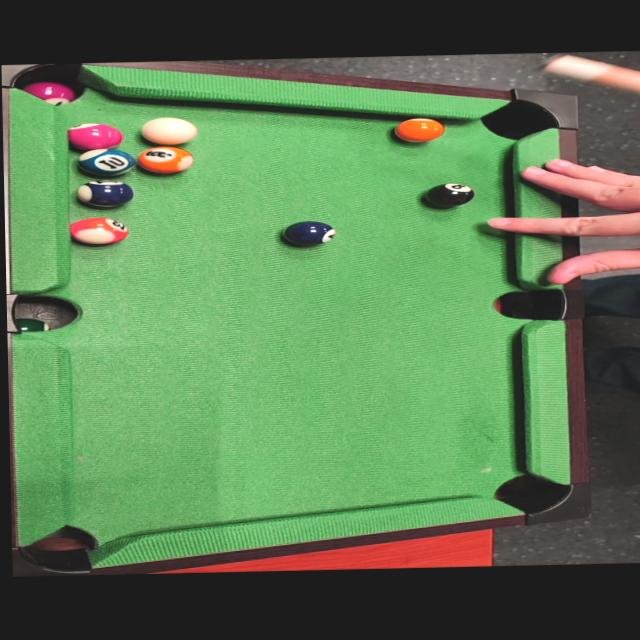cue ball: (142, 113, 201, 148)
other: (60, 119, 125, 155), (75, 143, 139, 179), (128, 144, 202, 175), (68, 216, 133, 250), (76, 178, 131, 209), (282, 219, 338, 248), (427, 178, 479, 209), (393, 114, 445, 143)
